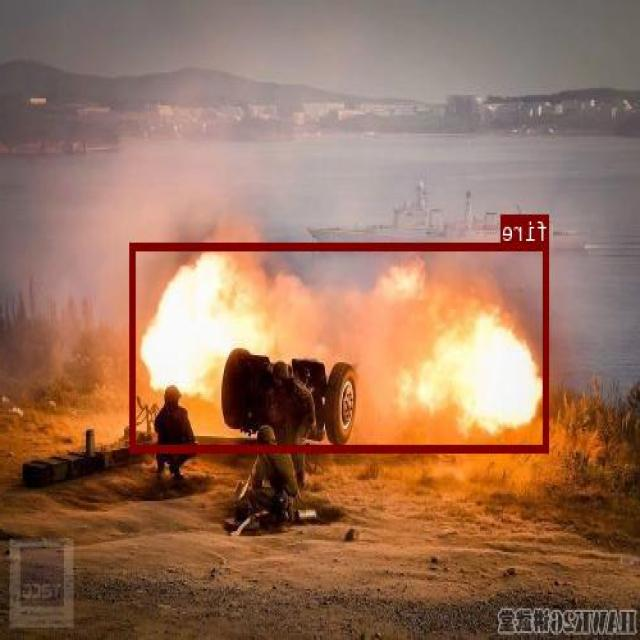fire: (131, 243, 550, 450)
